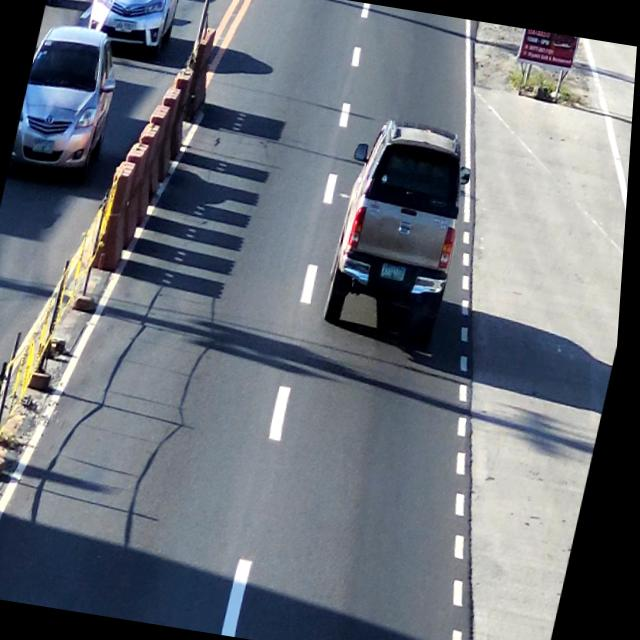Car: (325, 114, 489, 355)
License-Plate: (381, 260, 413, 284), (33, 138, 60, 156), (113, 16, 138, 35)
